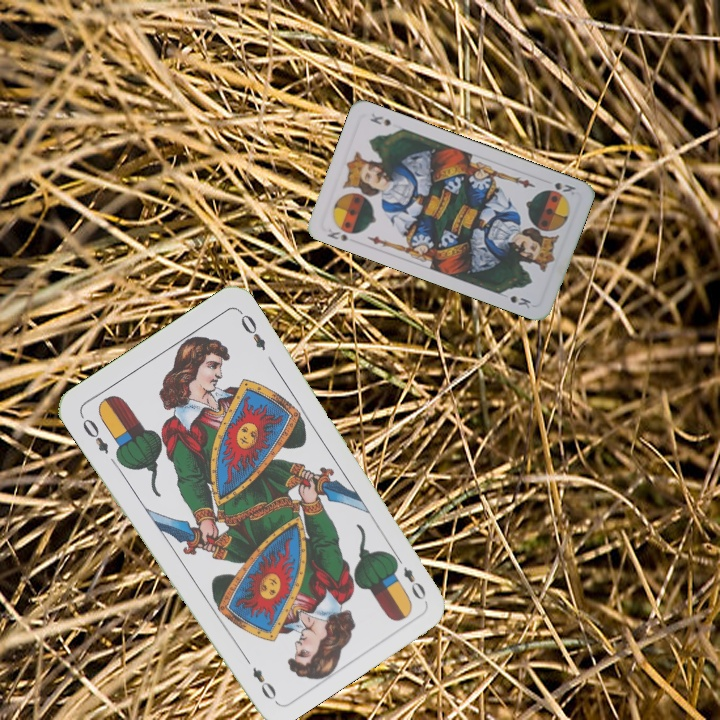EO: (389, 551, 429, 603), (76, 411, 112, 457)
SK: (544, 178, 578, 198), (323, 224, 350, 244)
